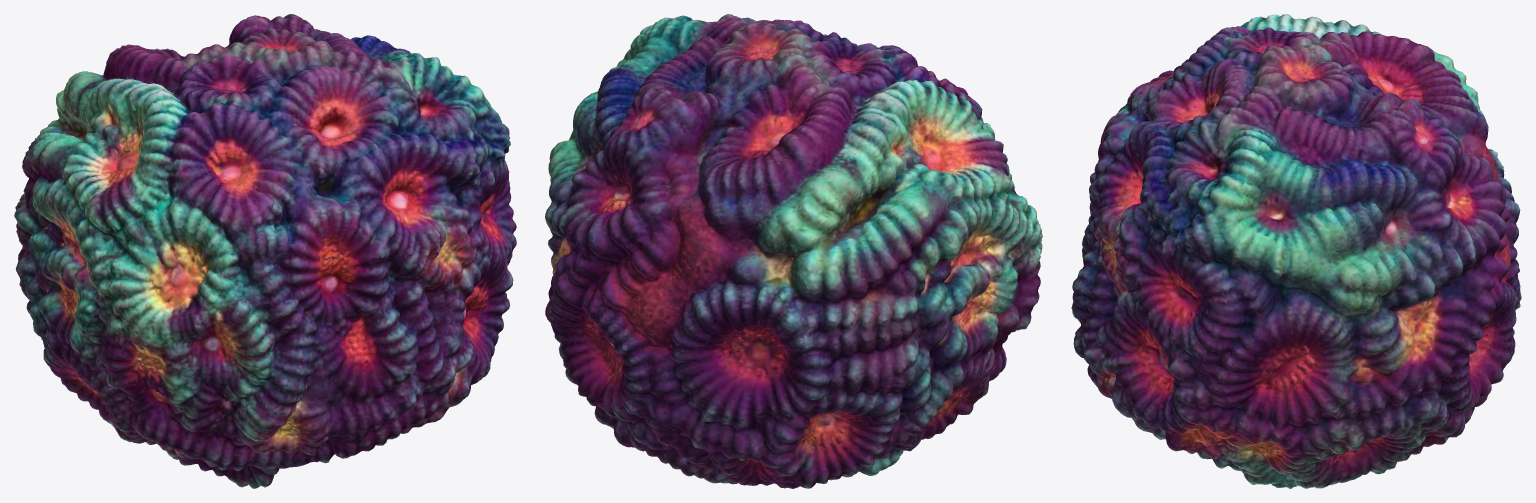
File: favia.glb
The picture shows the model from 3 angles, left to right: view 1: azimuth 30°, elevation 25°; view 2: azimuth 150°, elevation 25°; view 3: azimuth 270°, elevation 25°; orthographic projection. The views are drawn at different scales.
Size of the model in its own units: 1.9 by 1.84 by 1.82.
Materials: 1 (1 with a texture image).
